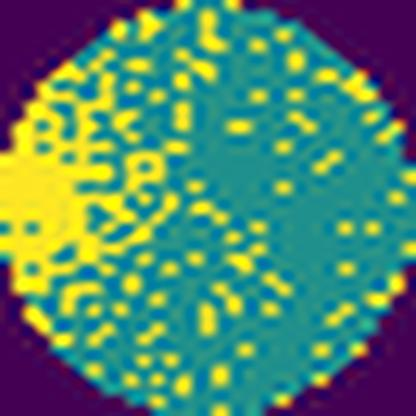Edge-Loc: (0, 55, 166, 295)
